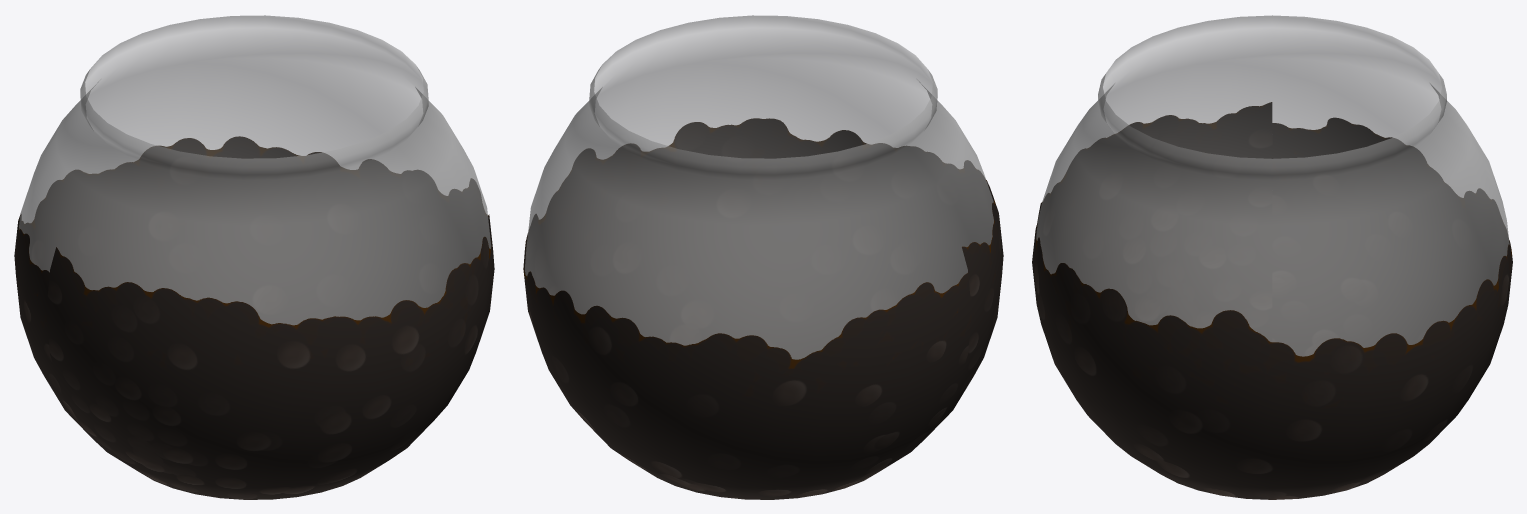
Rendered from Bowl_bubble (1).fbx.
3 renders of one model, left to right at view 1: azimuth 30°, elevation 25°; view 2: azimuth 150°, elevation 25°; view 3: azimuth 270°, elevation 25°, orthographic.
Visible parts, largest first — view 1: Sphere, pasted__Sphere; view 2: Sphere, pasted__Sphere; view 3: Sphere, pasted__Sphere.
Part boxes in pixels (x1=…): Sphere: x1=14, y1=136, x2=494, y2=499; pasted__Sphere: x1=19, y1=15, x2=491, y2=325; Sphere: x1=523, y1=118, x2=1003, y2=499; pasted__Sphere: x1=525, y1=15, x2=993, y2=359; Sphere: x1=1032, y1=102, x2=1512, y2=499; pasted__Sphere: x1=1036, y1=15, x2=1509, y2=356.
Size of the model in its own units: 200 by 164 by 200.
Materials: 2 (1 with a texture image).
